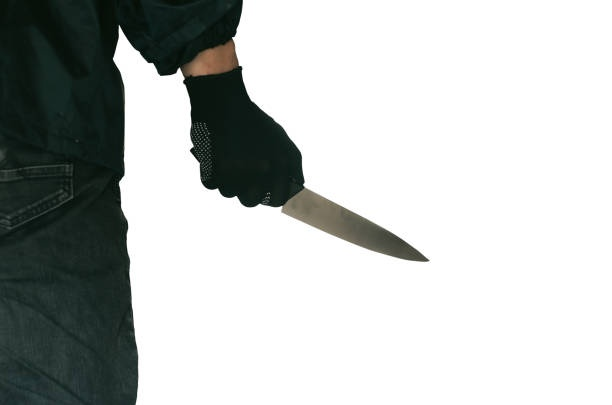knife: (190, 133, 432, 265)
